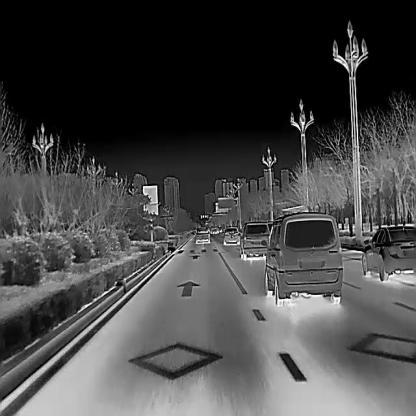car: (264, 211, 342, 305), (361, 225, 415, 281), (238, 221, 271, 259), (223, 226, 240, 244), (195, 228, 209, 242)
